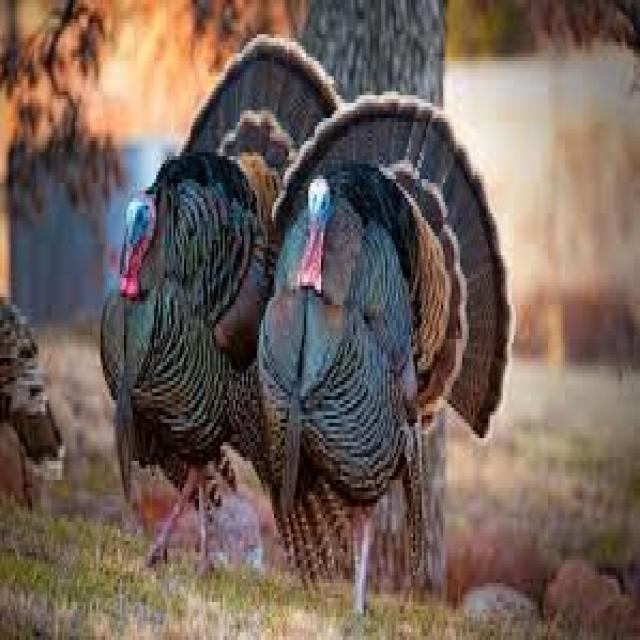Turkey: (258, 72, 516, 615), (95, 3, 338, 563)
